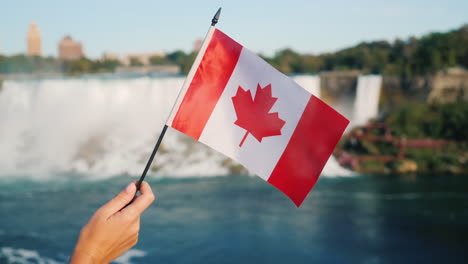Canada flag: (167, 24, 352, 210)
